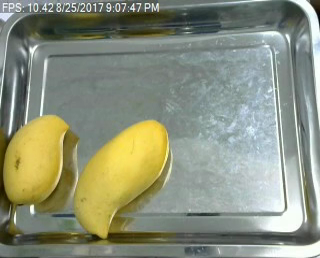Mango: (72, 116, 170, 240), (0, 113, 71, 205)
